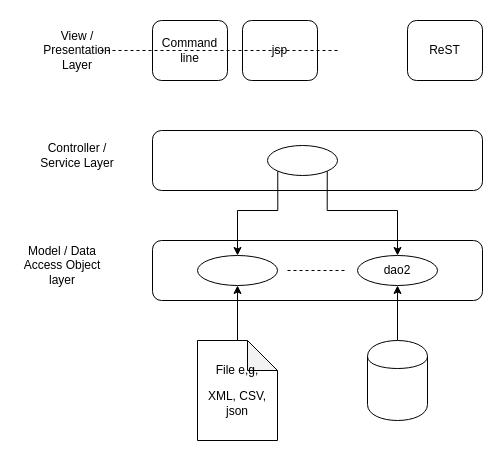
This 500x458 diagram has some shape labels left out. The shapes that lost their labels are listed below. From the top down, each one's box as (x1, y1, x2, y2) in pixels, then its label:
(266, 144, 338, 176): service
(196, 254, 278, 286): dao1
(366, 340, 428, 420): database
